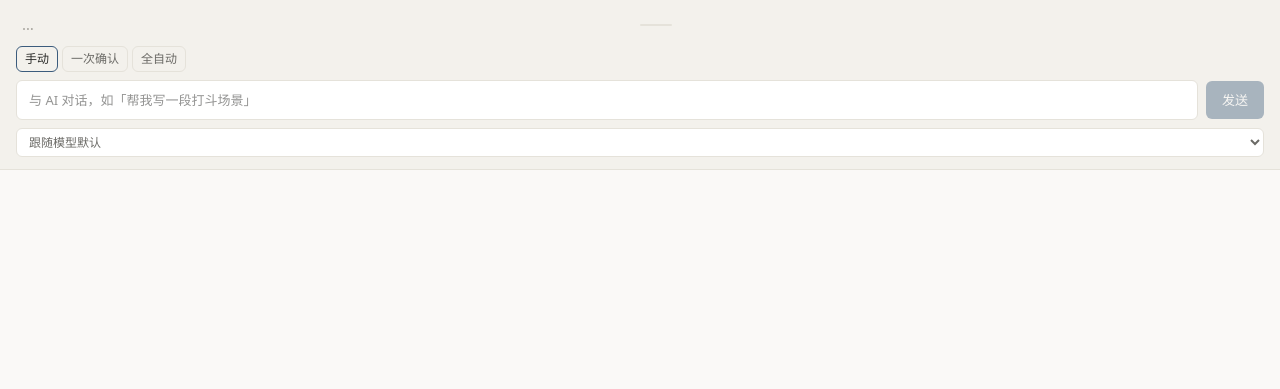
Test: ChatPanel — #1161 C1 陈旧快照丢弃（加载在途发送） › C1：流式在途（done 帧未到）时陈旧快照落地 → 流式消息与用户消息均不被抹
Type "流式提问" into the text box with test id "chat-input" at coordinates (607, 100), box [16,80,1198,120]
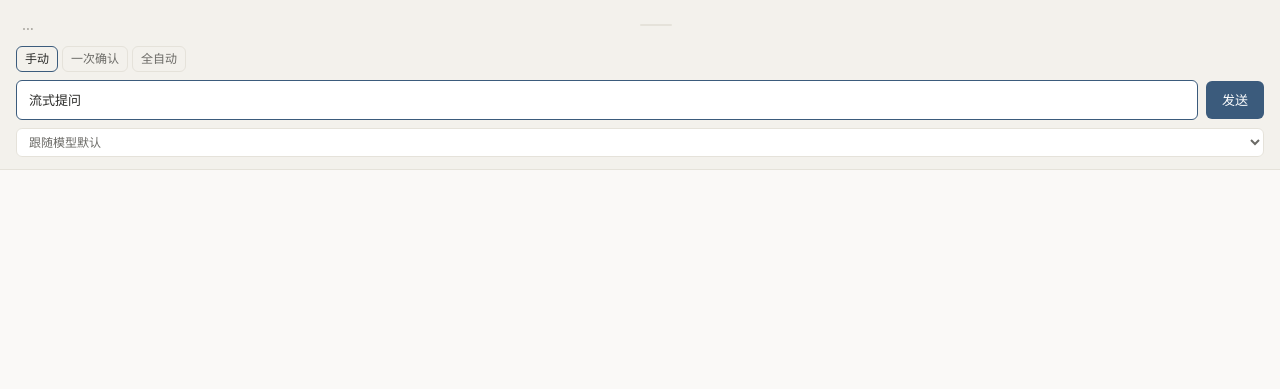
Click the button with test id "chat-send" at coordinates (1235, 100), box [1206,81,1264,119]
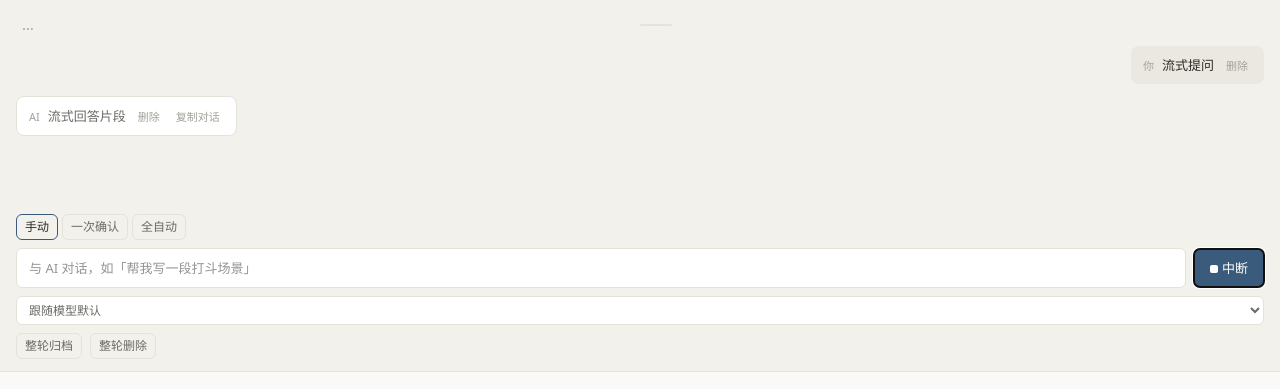
Now the element with test id "chat-msg-ai-0" shows "流式回答片段", box [48,107,126,125]
Now the element with test id "chat-msg-user-0" shows "流式提问", box [1162,56,1214,74]
